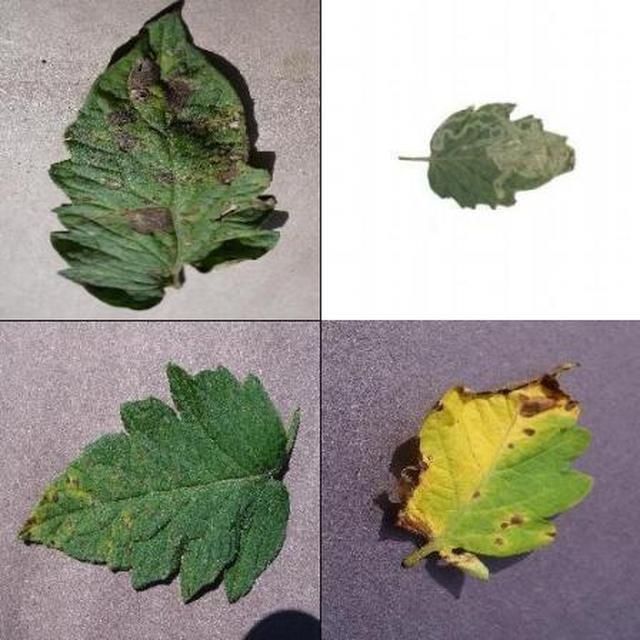Early Blight Leaf: (214, 161, 640, 640)
